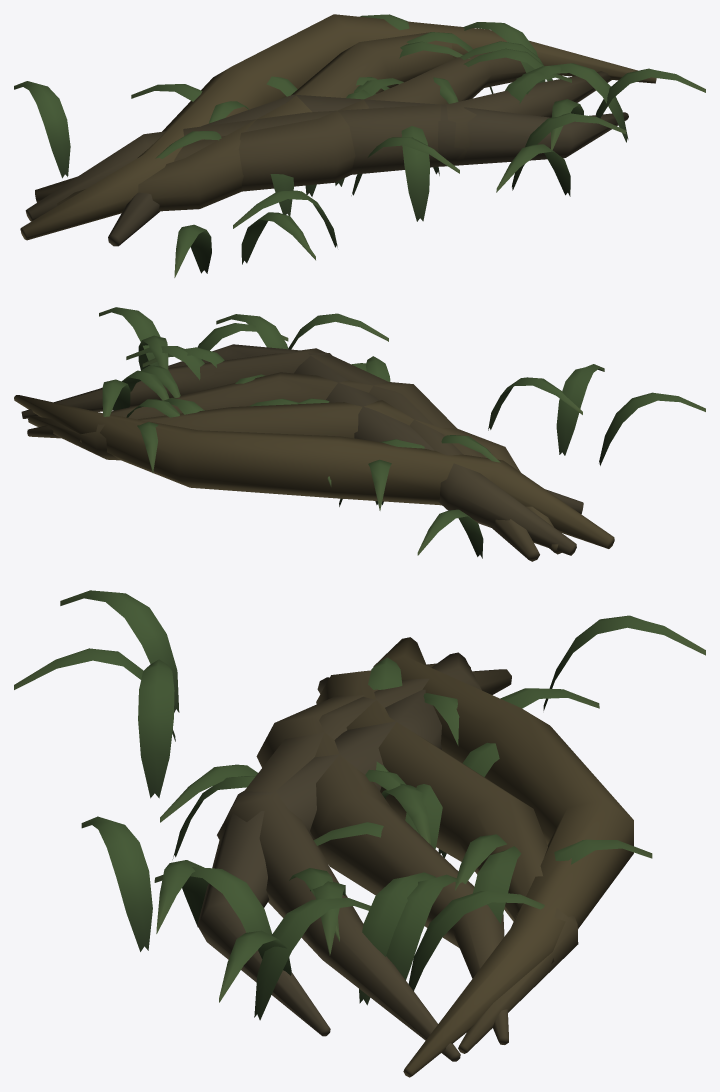
File: root-weave.glb
The picture shows the model from 3 angles, top to bottom: view 1: azimuth 30°, elevation 25°; view 2: azimuth 150°, elevation 25°; view 3: azimuth 270°, elevation 25°; orthographic projection. The views are drawn at different scales.
Visible parts, largest first — view 1: RF06B root-weave; view 2: RF06B root-weave; view 3: RF06B root-weave.
Part boxes in pixels (bbox=[...]): RF06B root-weave: bbox=[14, 14, 705, 277]; RF06B root-weave: bbox=[14, 307, 705, 561]; RF06B root-weave: bbox=[14, 590, 705, 1077].
Bounding box in the file's own units: 1.62 × 0.2024 × 1.11.
